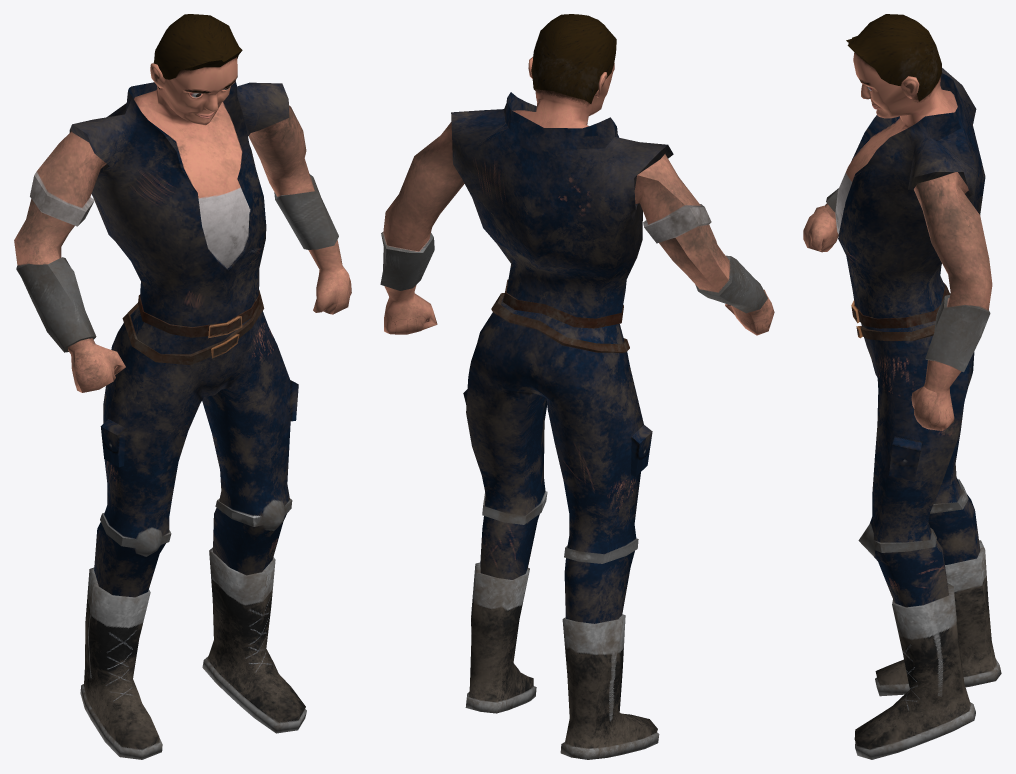
The model's file is Anim_coger_objeto_jugador.0037.obj.
The picture shows the model from 3 angles, left to right: view 1: azimuth 30°, elevation 25°; view 2: azimuth 150°, elevation 25°; view 3: azimuth 270°, elevation 25°; orthographic projection. The views are drawn at different scales.
Visible parts, largest first — view 1: polySurface1; view 2: polySurface1; view 3: polySurface1.
Part boxes in pixels (box(x1,y1,x2,y2)): polySurface1: box(14, 14, 351, 759); polySurface1: box(380, 14, 774, 759); polySurface1: box(803, 14, 1001, 759).
Size of the model in its own units: 4.83 by 9.69 by 2.49.
